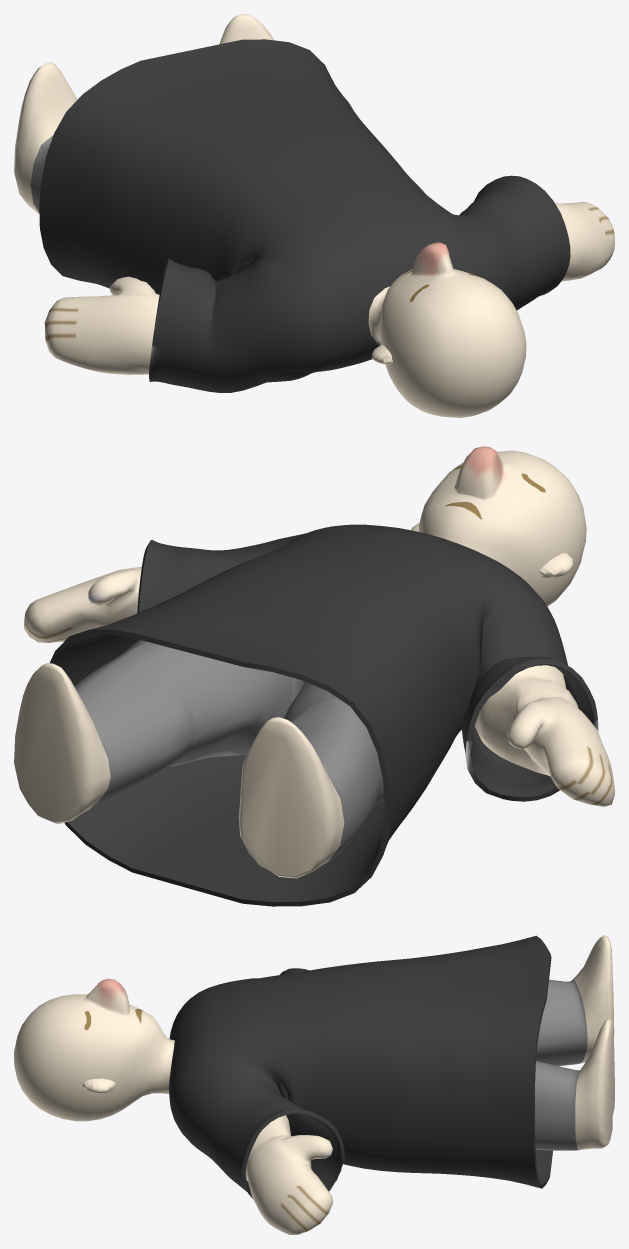
File: person_laying2_v2.fbx
3 renders of one model, top to bottom at view 1: azimuth 30°, elevation 25°; view 2: azimuth 150°, elevation 25°; view 3: azimuth 270°, elevation 25°, orthographic. The views are drawn at different scales.
Parts seen in each view (by area): view 1: person3; view 2: person3; view 3: person3.
Boxes of the visible parts, <box> form: person3: <box>14,14,614,417</box>; person3: <box>14,446,614,906</box>; person3: <box>14,935,614,1234</box>.
Size of the model in its own units: 1.79 by 0.6688 by 1.99.
Materials: 1 (1 with a texture image).
